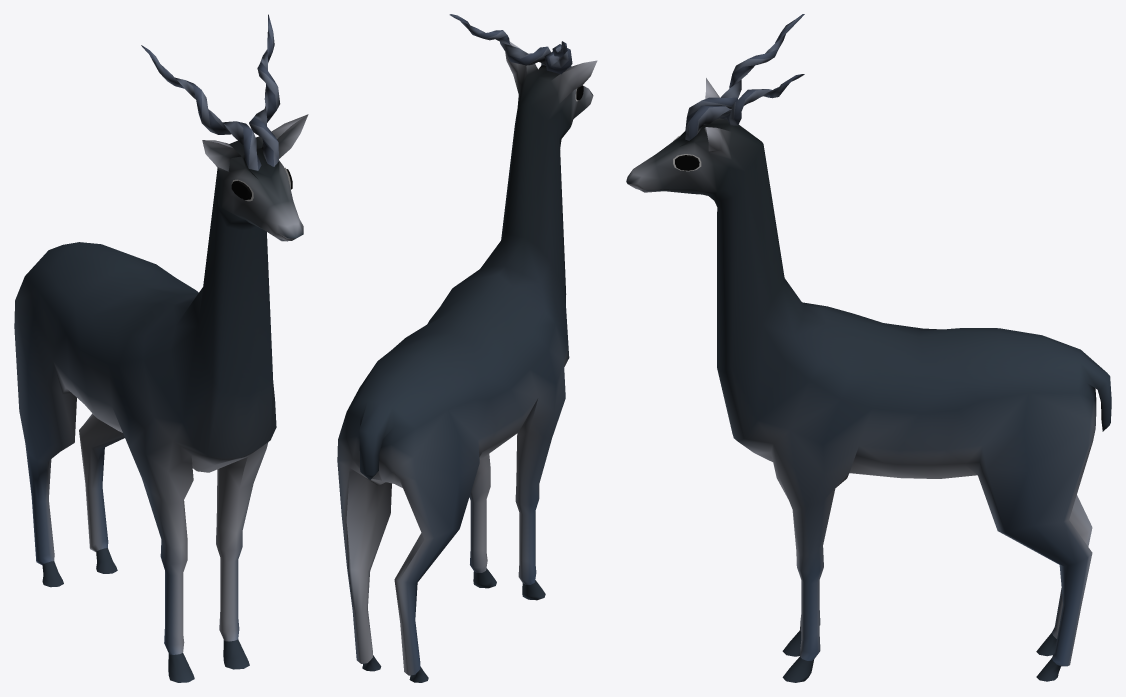
Rendered from animals-imaginary-entraine_v1.glb.
3 renders of one model, left to right at view 1: azimuth 30°, elevation 25°; view 2: azimuth 150°, elevation 25°; view 3: azimuth 270°, elevation 25°, orthographic. The views are drawn at different scales.
Parts seen in each view (by area): view 1: Entraine_base; view 2: Entraine_base; view 3: Entraine_base.
Boxes of the visible parts, bbox=[...] form: Entraine_base: bbox=[14, 14, 308, 682]; Entraine_base: bbox=[337, 14, 597, 682]; Entraine_base: bbox=[626, 14, 1111, 682].
Bounding box in the file's own units: 0.4959 × 2.21 × 1.57.
